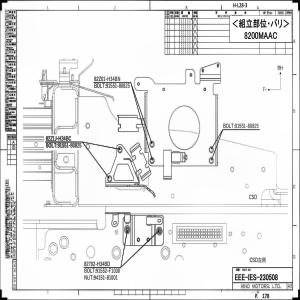PartNumber: (94, 274, 118, 282), (57, 142, 82, 149), (235, 122, 260, 129), (94, 76, 121, 82), (45, 135, 72, 141), (84, 260, 110, 266), (96, 268, 121, 274), (106, 83, 130, 88)
